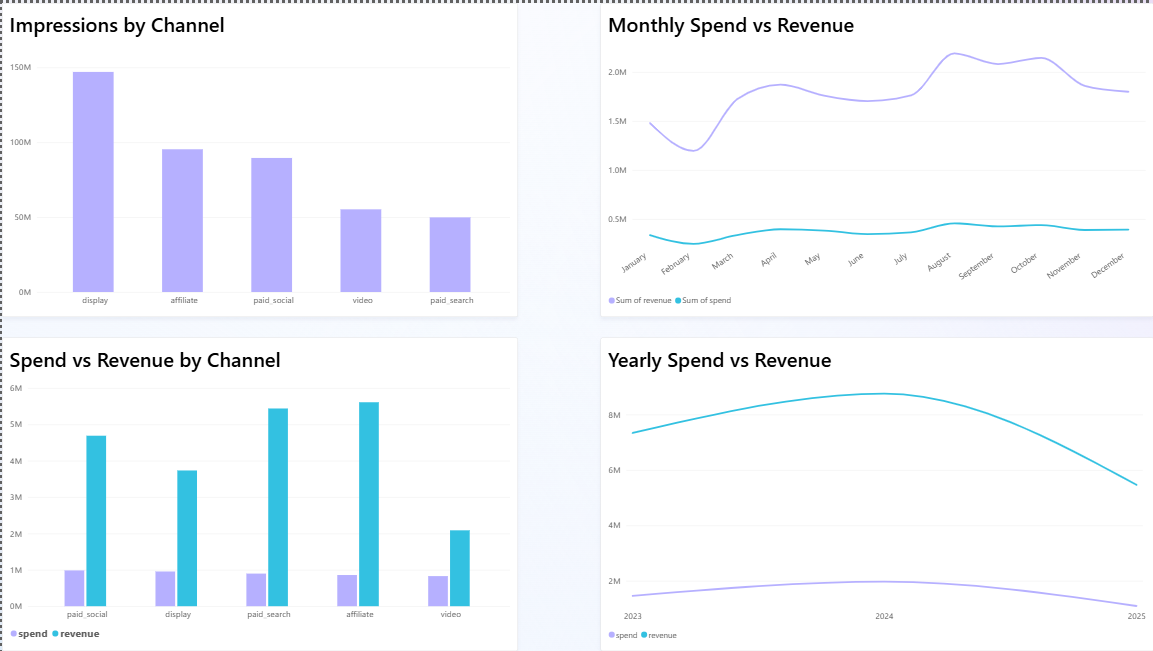

What the dashboard file says about the page in this screenshot:
{"tool":"powerbi","page":{"name":"Page 2","canvas":[1920,1080],"ordinal":1},"visuals":[{"type":"clusteredColumnChart","title":"Spend vs Revenue by Channel","fields":{"Category":["Table1.channel"],"Y":["Sum(Table1.spend)","Sum(Table1.revenue)"]},"box":[0,557.5,860,522.5],"z":0},{"type":"lineChart","title":"Yearly Spend vs Revenue","fields":{"Category":["Table1.spend_date.Variation.Date Hierarchy.Year","Table1.spend_date.Variation.Date Hierarchy.Quarter","Table1.spend_date.Variation.Date Hierarchy.Month","Table1.spend_date.Variation.Date Hierarchy.Day"],"Y":["Sum(Table1.spend)","Sum(Table1.revenue)"]},"box":[997.5,557.5,922.5,522.5],"z":1000},{"type":"columnChart","title":"Impressions by Channel","fields":{"Category":["Table1.channel"],"Y":["Sum(Table1.impressions)"]},"box":[0,0,860,523],"z":3000},{"type":"lineChart","title":"Monthly Spend vs Revenue","fields":{"Category":["Table1.spend_date.Variation.Date Hierarchy.Month"],"Y":["Sum(Table1.revenue)","Sum(Table1.spend)"]},"box":[998,0,922,523],"z":3001}]}

Visuals, with their boxes in screenshot pixels (x1, y1, x2, y2), scaled from the page's 1920x1080 canvas onto the 1153x651 screenshot:
"Spend vs Revenue by Channel" clusteredColumnChart: [left=0, top=336, right=516, bottom=650]
"Yearly Spend vs Revenue" lineChart: [left=599, top=336, right=1152, bottom=650]
"Impressions by Channel" columnChart: [left=0, top=0, right=516, bottom=315]
"Monthly Spend vs Revenue" lineChart: [left=599, top=0, right=1152, bottom=315]
